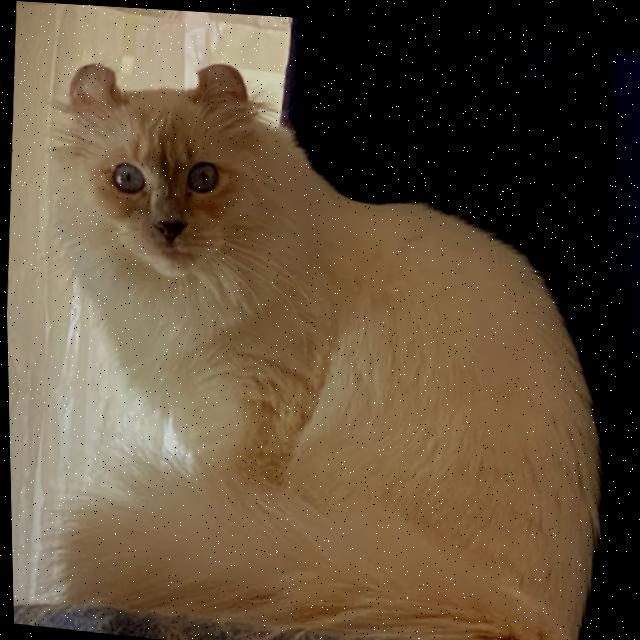American Curl: (16, 36, 632, 640)
